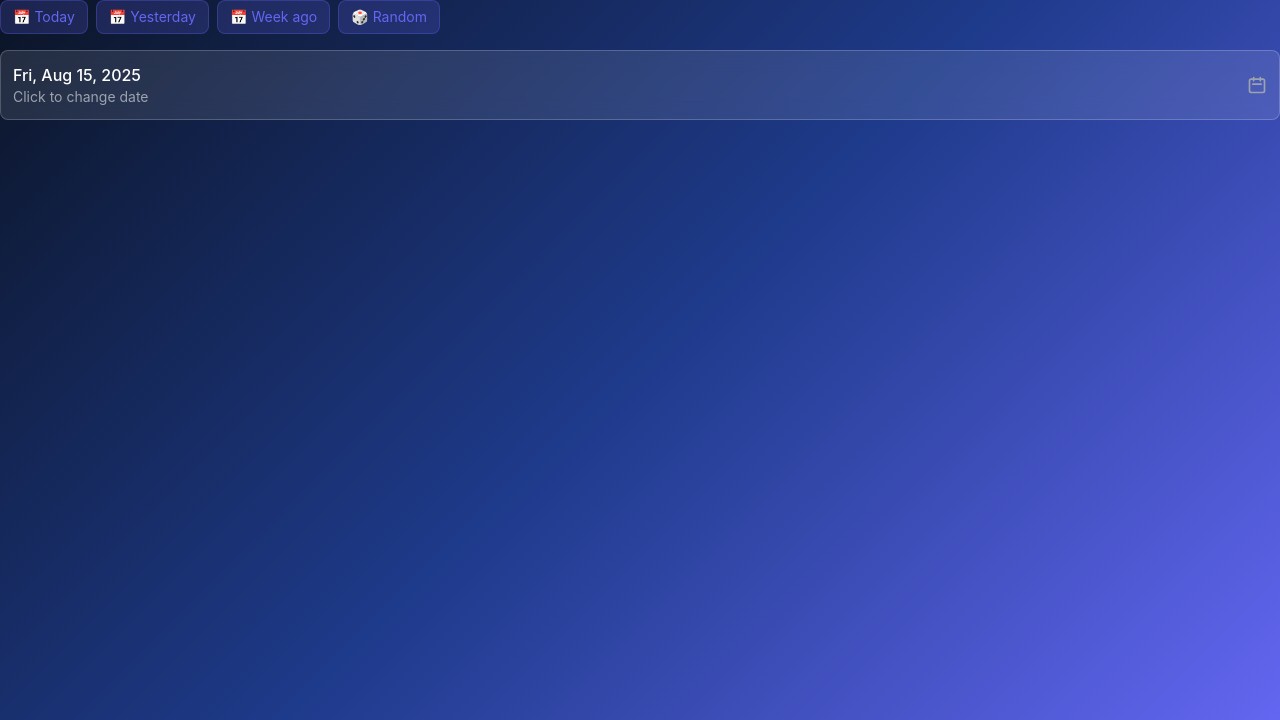
it: DatePicker › closes calendar when clicking close button
Click the button "Fri, Aug 15, 2025 Click to change date".
click(77, 75)  # box [0,50,1279,120]
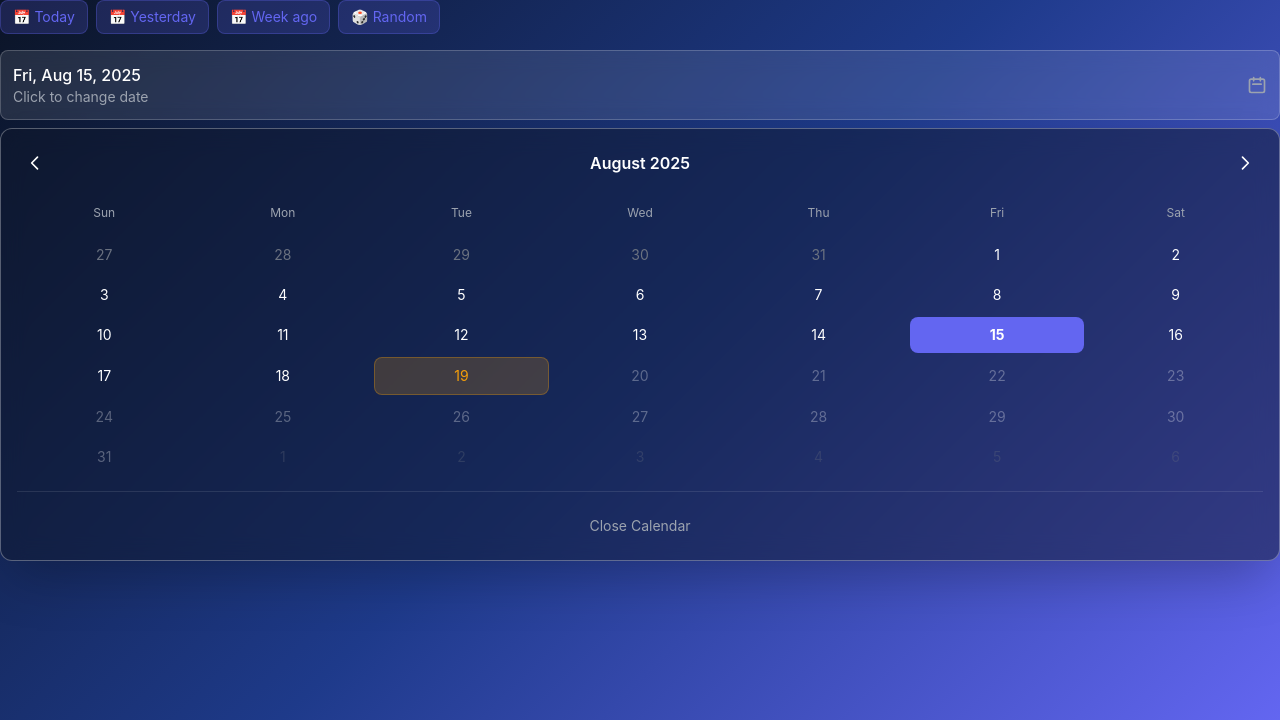
Result: the heading "August 2025" is shown at [590,151,690,175]
Click the button "Close Calendar".
click(640, 526)  # box [17,508,1263,544]
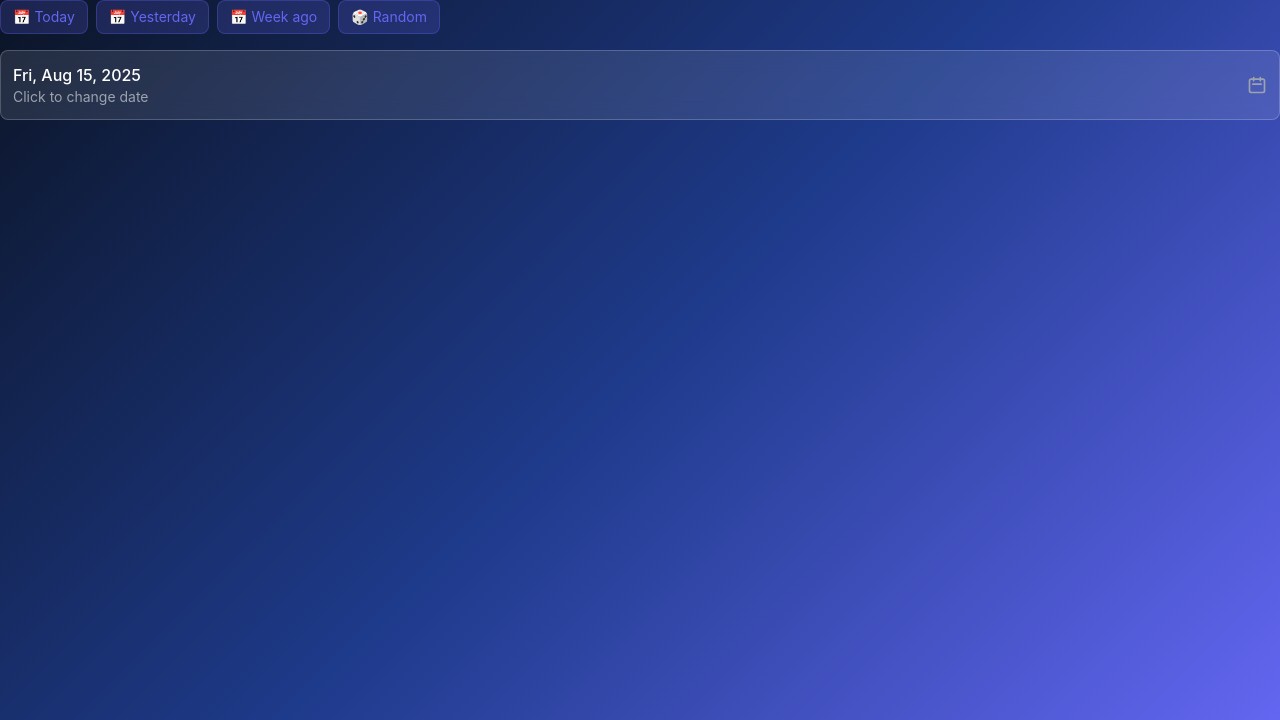
Result: the heading "August 2025" is gone
